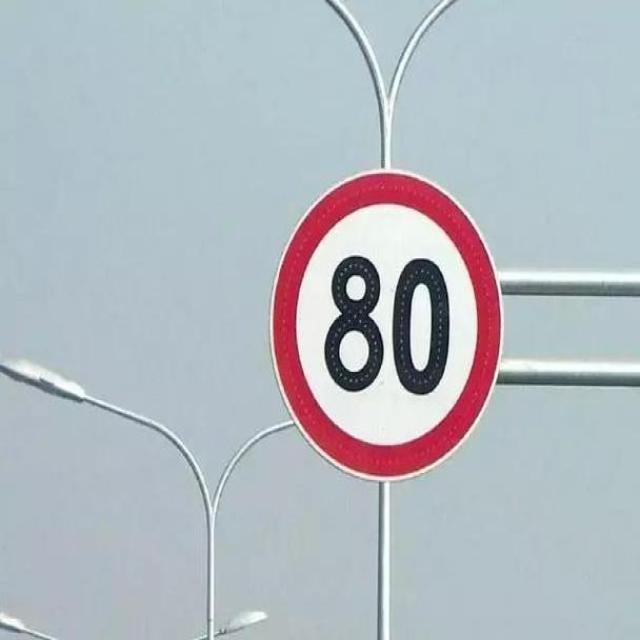speed limit 80: (271, 174, 505, 481)
